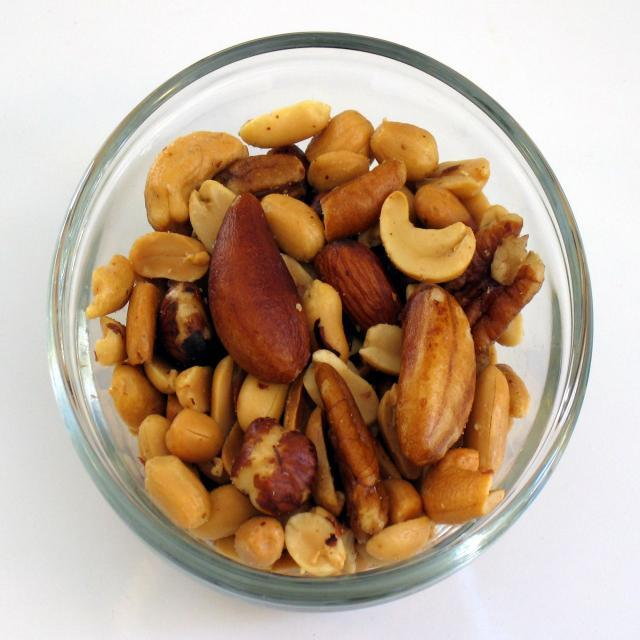Frutta secca: (79, 104, 545, 571)
